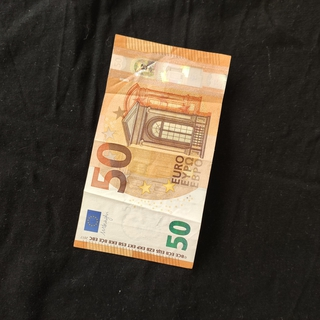50EUROFront: (72, 31, 233, 271)
